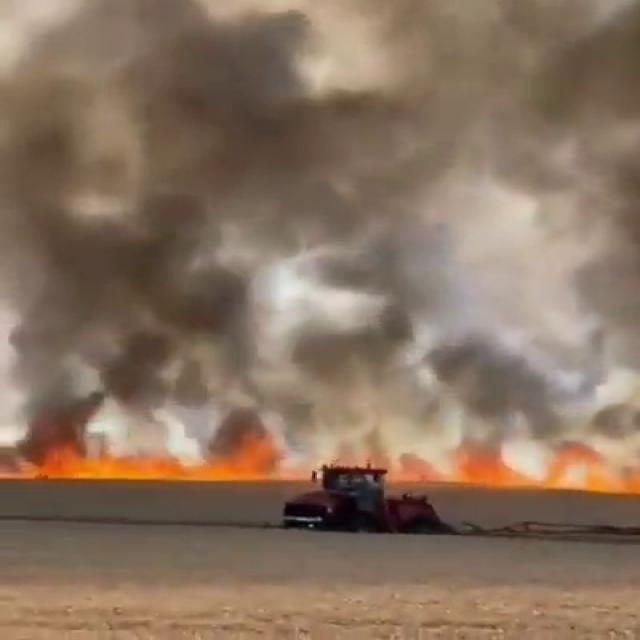Fire: (37, 446, 302, 479), (461, 454, 640, 492)
